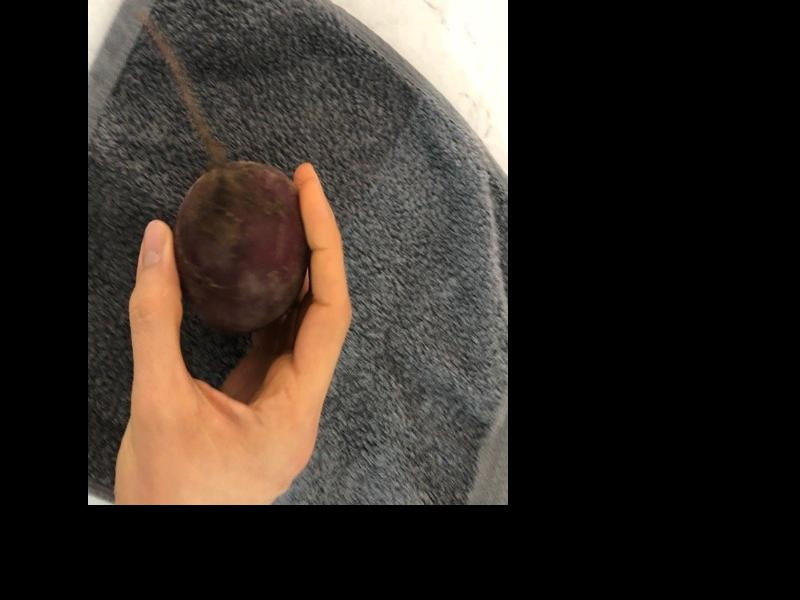Beet: (173, 162, 308, 334)
